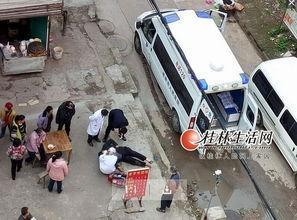Fall-Detected: (92, 135, 151, 171)
